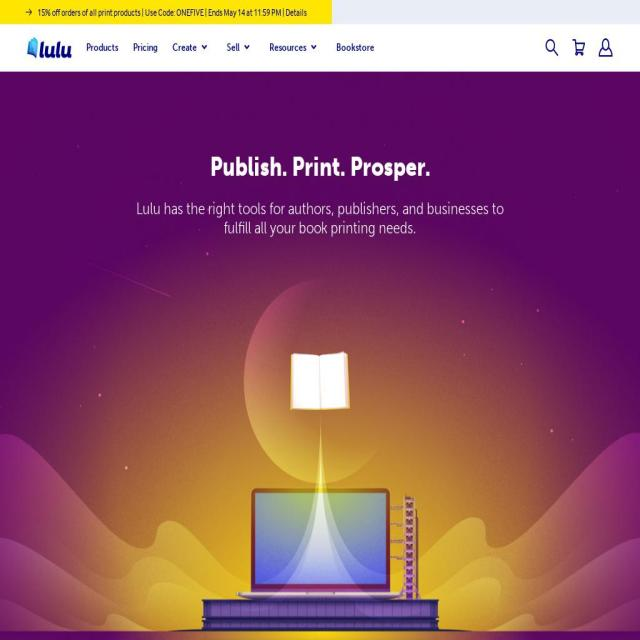button: (37, 6, 307, 18), (269, 37, 322, 71), (172, 37, 212, 71), (336, 37, 375, 71), (25, 34, 74, 61), (86, 37, 119, 71), (227, 37, 255, 71), (133, 37, 158, 71)
heading: (125, 200, 515, 238), (125, 152, 515, 182)
image: (332, 0, 640, 24), (25, 34, 74, 61)
text: (588, 28, 616, 67), (269, 38, 307, 58), (172, 38, 198, 58), (227, 38, 240, 58)
